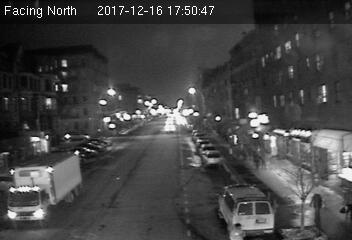car: (203, 151, 223, 168)
police: (220, 183, 274, 236)
truck: (4, 151, 87, 225)
